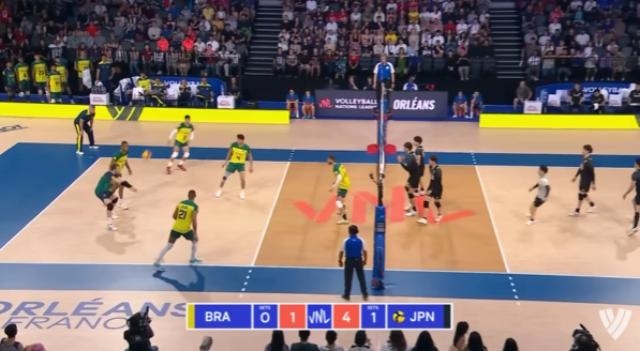Levantador: (310, 151, 368, 229), (412, 128, 424, 170)
Libero: (80, 158, 132, 224), (516, 157, 560, 231)
bola: (138, 141, 156, 169)
